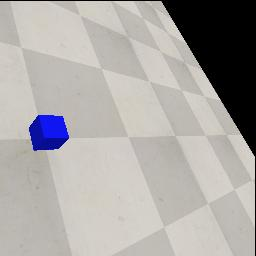box: (29, 115, 69, 151)
